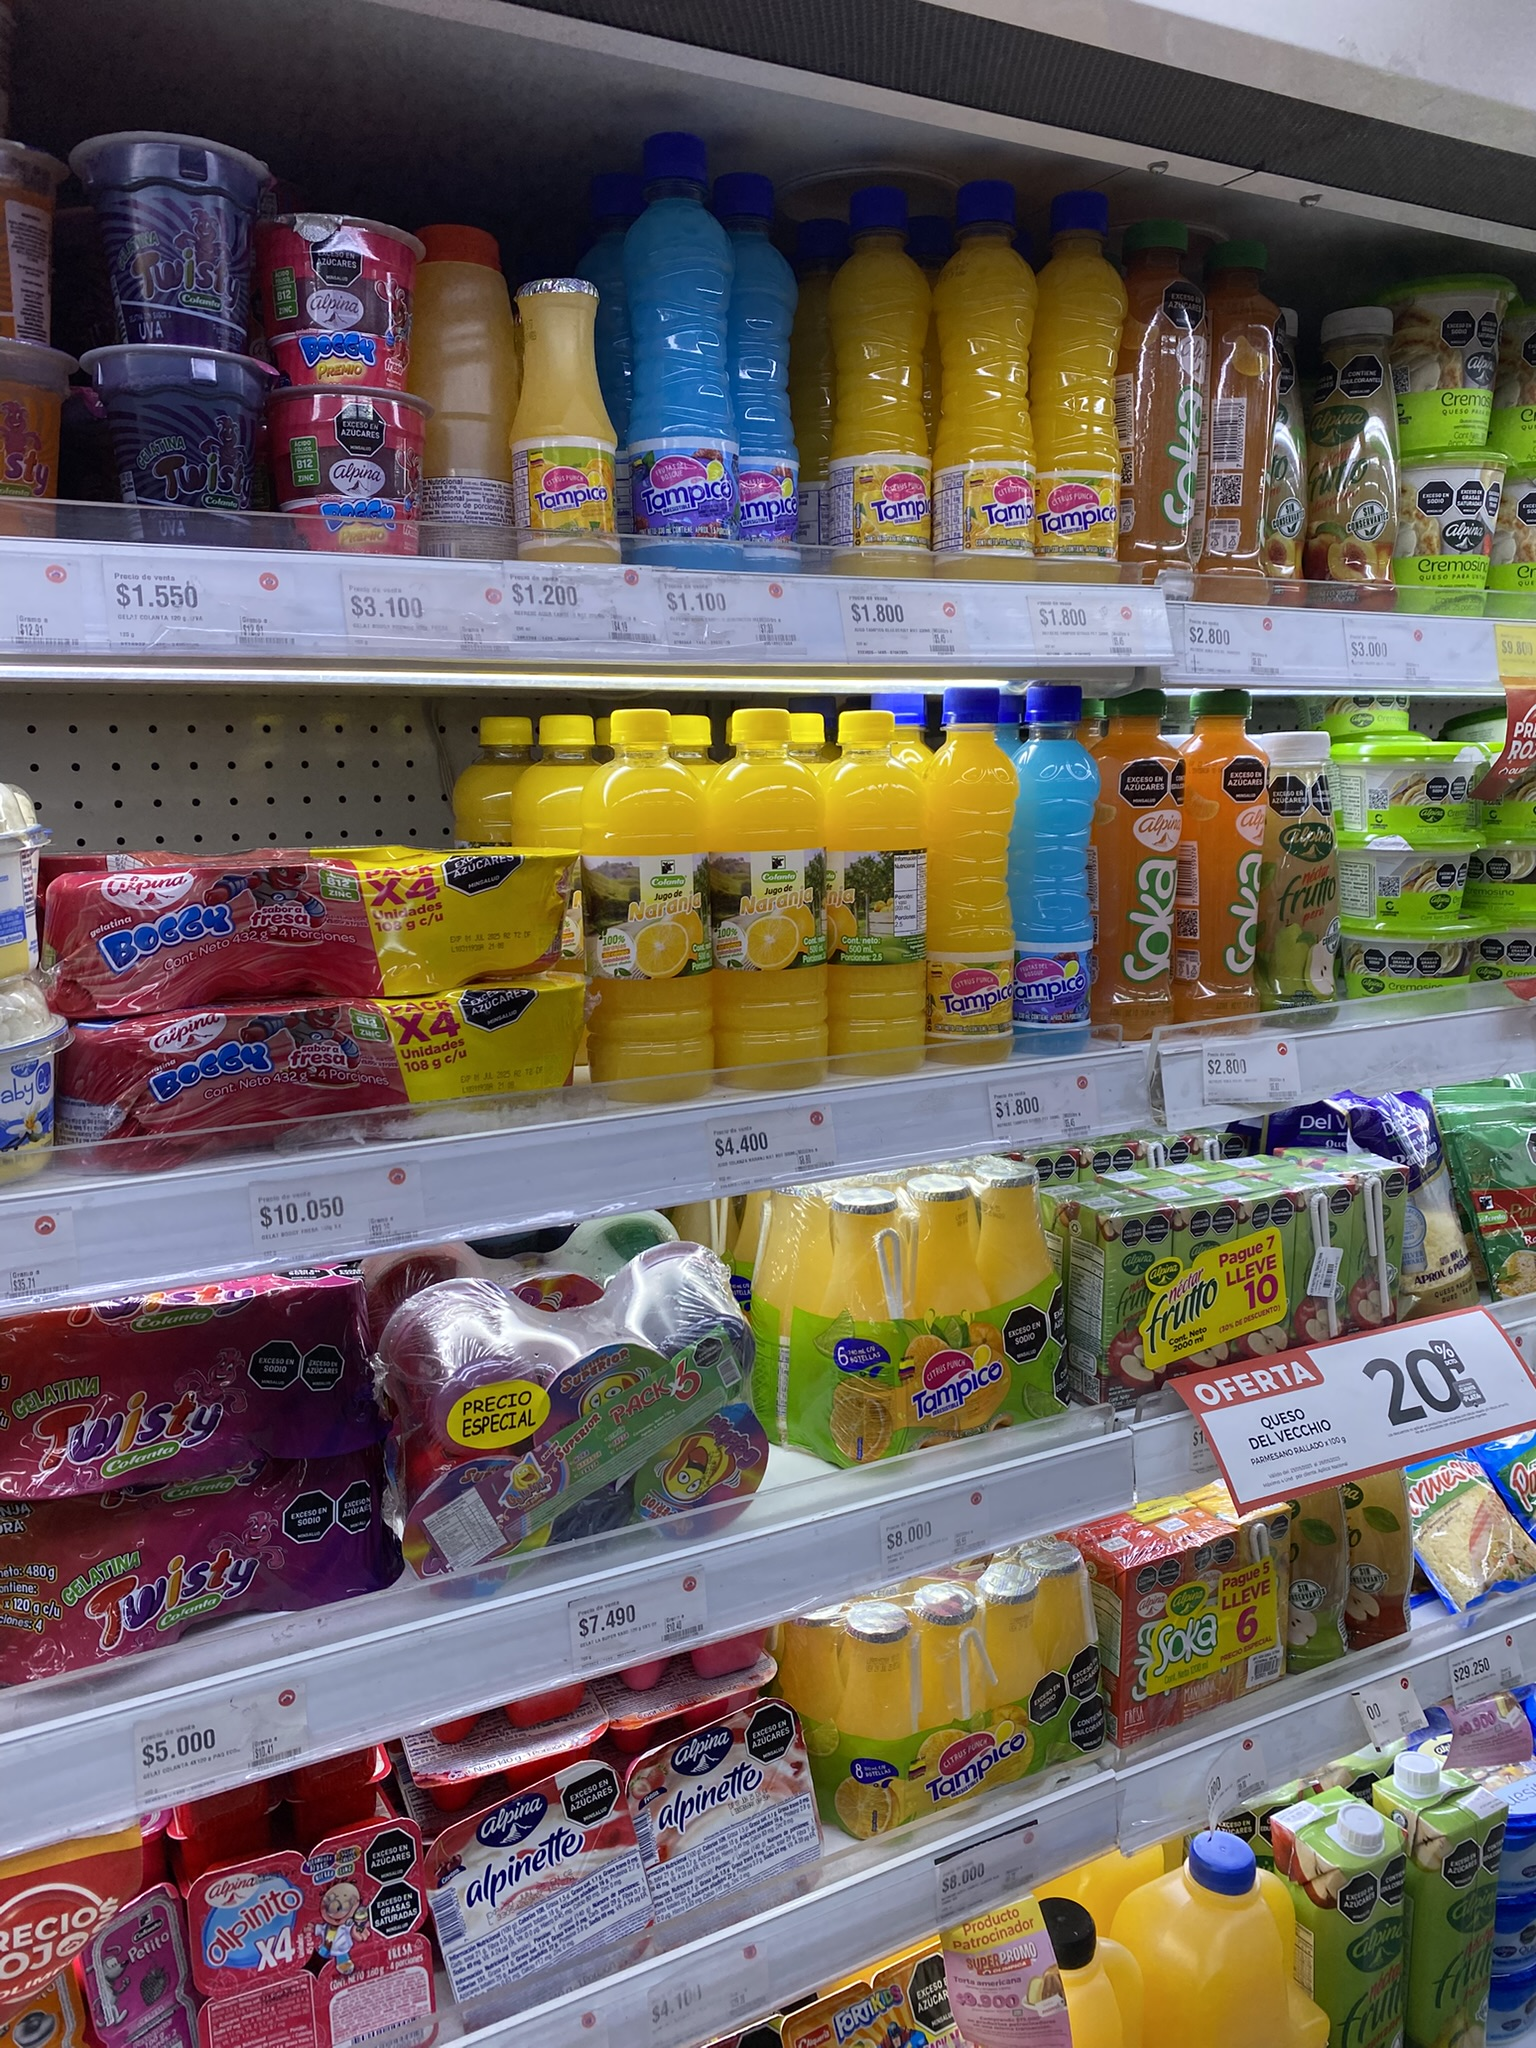Jugo de Naranja: (589, 718, 710, 1101), (713, 708, 826, 1095), (826, 701, 937, 1084)
